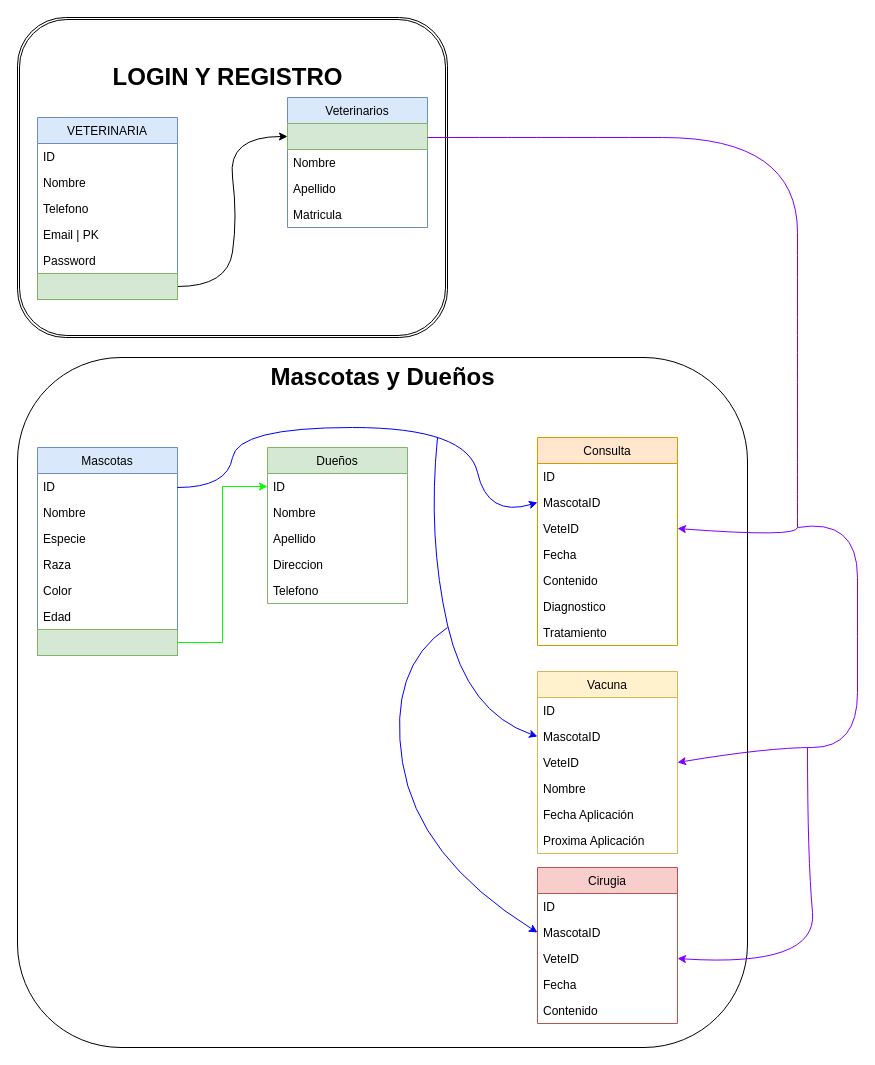
Some shapes in this 875 by 1065 pixel diagram are drawn without their labels. The centre of each missing label's shape, as x and y in pixels:
DueñoID: point (107, 642)
ID | PK: point (357, 136)
Vetes[lim5]: point (107, 286)
